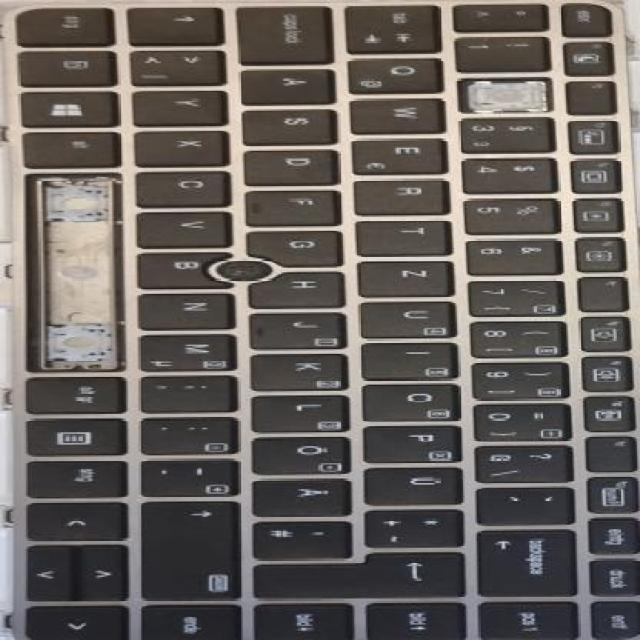Keyboard problems: (26, 178, 122, 368), (460, 78, 549, 112)
